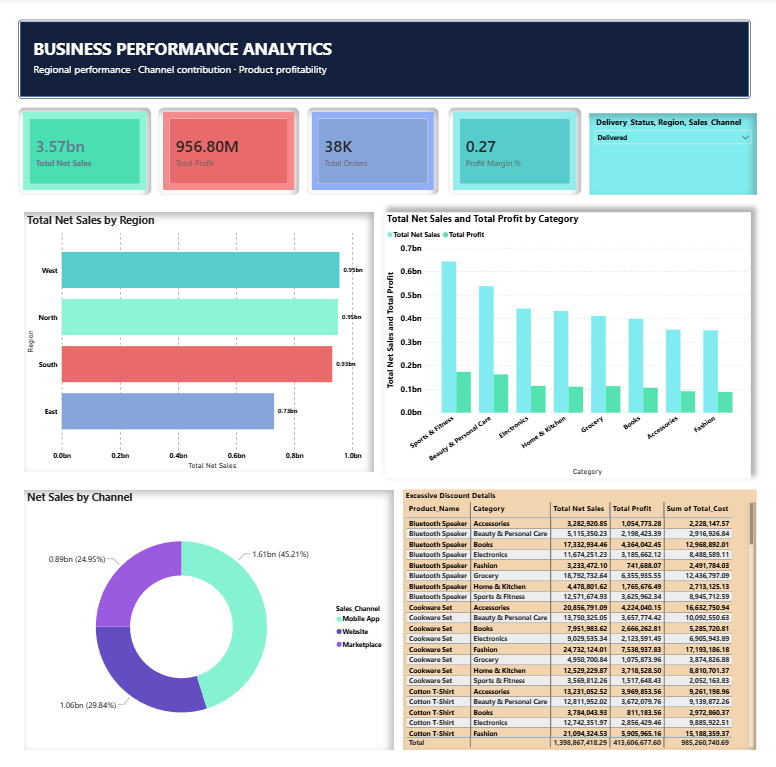

The dashboard page shown, as its layout file describes it:
{"tool":"powerbi","page":{"name":"Page 1Business Performance","canvas":[1500,1500],"ordinal":2},"visuals":[{"type":"shape","box":[12.5,17.5,1465,157.5],"z":0},{"type":"textbox","title":"BUSINESS PERFORMANCE ANALYTICS","box":[32.5,37.5,627.5,137.5],"z":1000},{"type":"cardVisual","fields":{"Data":["order_items.Total Net Sales"]},"box":[12,192,266,176],"z":2000},{"type":"cardVisual","fields":{"Data":["order_items.Total Profit"]},"box":[292,192,282,176],"z":3000},{"type":"cardVisual","fields":{"Data":["order_items.Total Orders"]},"box":[590,192,264,176],"z":4000},{"type":"cardVisual","fields":{"Data":["order_items.Profit Margin %"]},"box":[872,192,266,176],"z":5000},{"type":"clusteredBarChart","fields":{"Category":["customers.Region"],"Y":["order_items.Total Net Sales"]},"box":[25,402.5,700,520],"z":6000},{"type":"donutChart","title":"Net Sales by Channel","fields":{"Category":["orders.Sales_Channel"],"Y":["order_items.Total Net Sales"]},"box":[26,958,738,520],"z":7000},{"type":"clusteredColumnChart","fields":{"Category":["products.Category"],"Y":["order_items.Total Net Sales","order_items.Total Profit"]},"box":[745,402.5,732.5,532.5],"z":8000},{"type":"tableEx","title":"Excessive Discount Details","fields":{"Values":["products.Product_Name","products.Category","order_items.Total Net Sales","order_items.Total Profit","Sum(order_items.Total_Cost)"]},"box":[782,958,706,520],"z":9000},{"type":"slicer","fields":{"Values":["orders.Delivery_Status","customers.Region","orders.Sales_Channel"]},"box":[1154,206,334,162],"z":10000}]}

Visuals, with their boxes in screenshot pixels (x1, y1, x2, y2), scaled from the page's 1500x1500 canvas onto the 776x767 screenshot:
shape: bbox=[6, 9, 764, 89]
"BUSINESS PERFORMANCE ANALYTICS" textbox: bbox=[17, 19, 341, 89]
cardVisual - order_items.Total Net Sales: bbox=[6, 98, 144, 188]
cardVisual - order_items.Total Profit: bbox=[151, 98, 297, 188]
cardVisual - order_items.Total Orders: bbox=[305, 98, 442, 188]
cardVisual - order_items.Profit Margin %: bbox=[451, 98, 589, 188]
clusteredBarChart - customers.Region x order_items.Total Net Sales: bbox=[13, 206, 375, 472]
"Net Sales by Channel" donutChart: bbox=[13, 490, 395, 756]
clusteredColumnChart - products.Category x order_items.Total Net Sales: bbox=[385, 206, 764, 478]
"Excessive Discount Details" tableEx: bbox=[405, 490, 770, 756]
slicer - orders.Delivery_Status x customers.Region: bbox=[597, 105, 770, 188]
